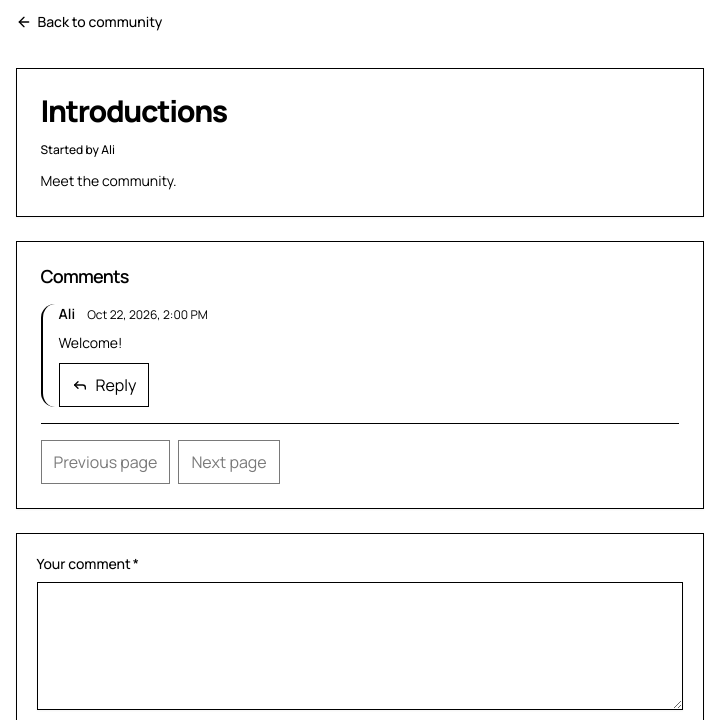
Test: CommunityTopicPage › renders public topic comments and posts an eligible one-level reply
Expected: the heading "Introductions" is shown, [40, 90, 227, 131]
Expected: the text "Welcome!" is shown, [58, 333, 122, 352]
Click the button "Reply" at [104, 385], box [58, 363, 149, 407]
(page scrolled)
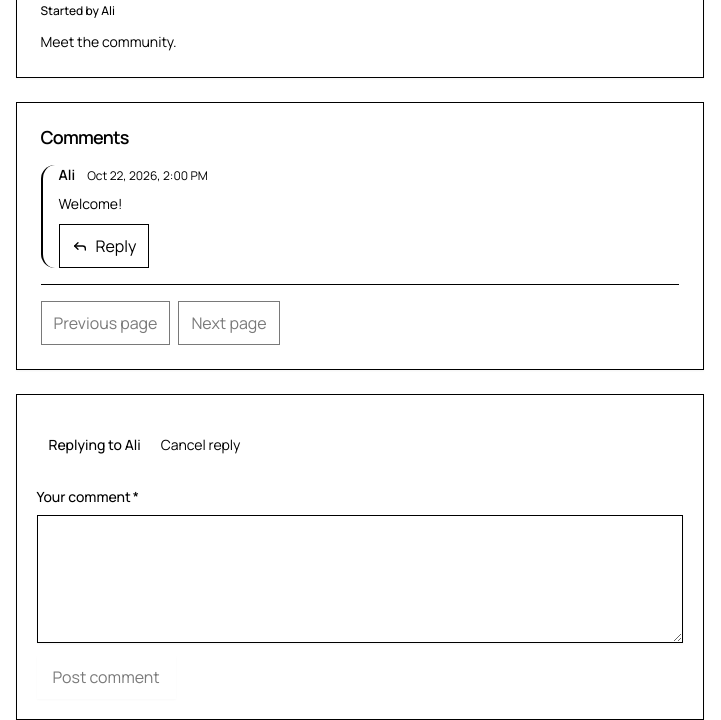
Type "Thank you!" into the text box labelled "Your comment" at [360, 579], box [36, 515, 682, 643]
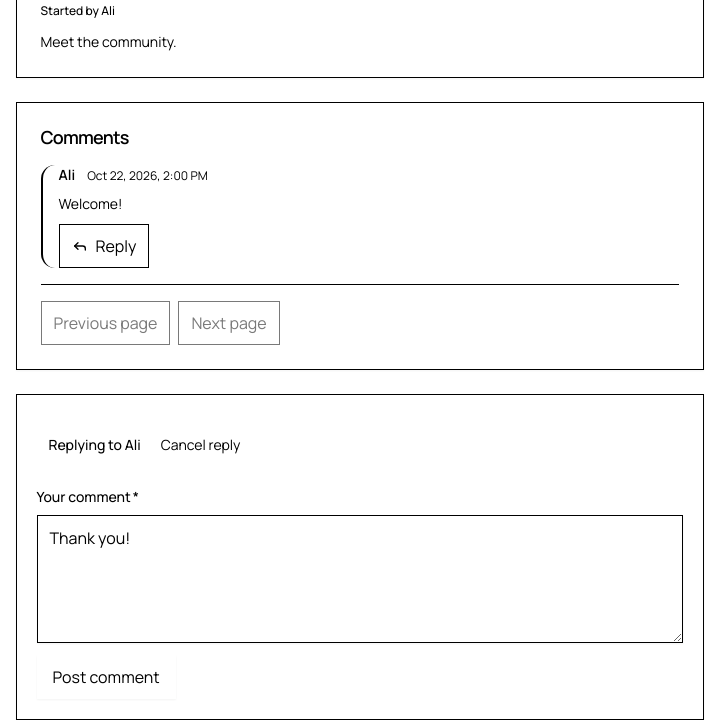
Click the button "Post comment" at [106, 677], box [36, 655, 176, 699]
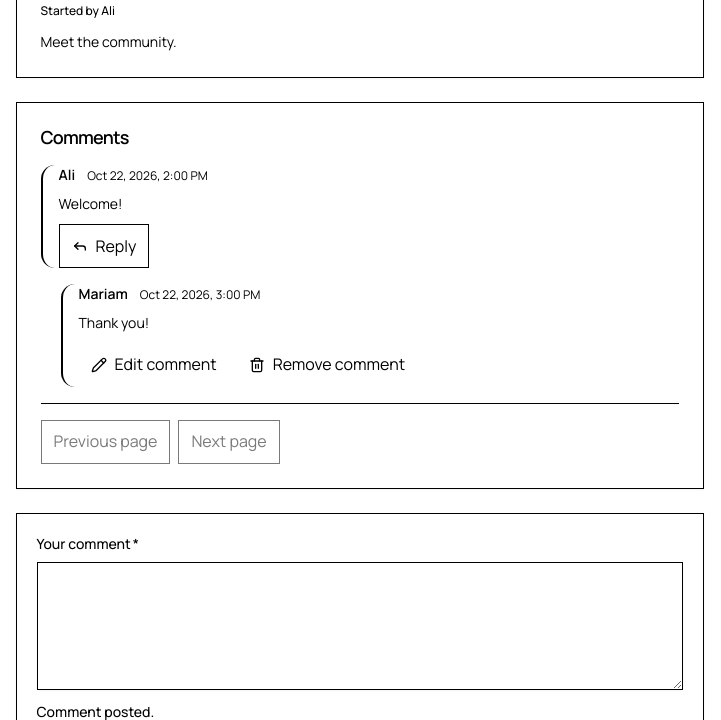
Expected: the text "Thank you!" is shown, [78, 313, 149, 332]
